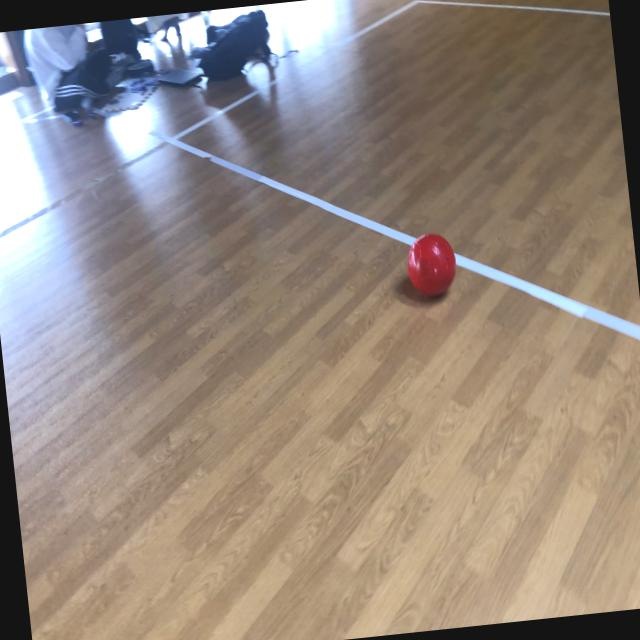red_ball: (402, 230, 460, 300)
